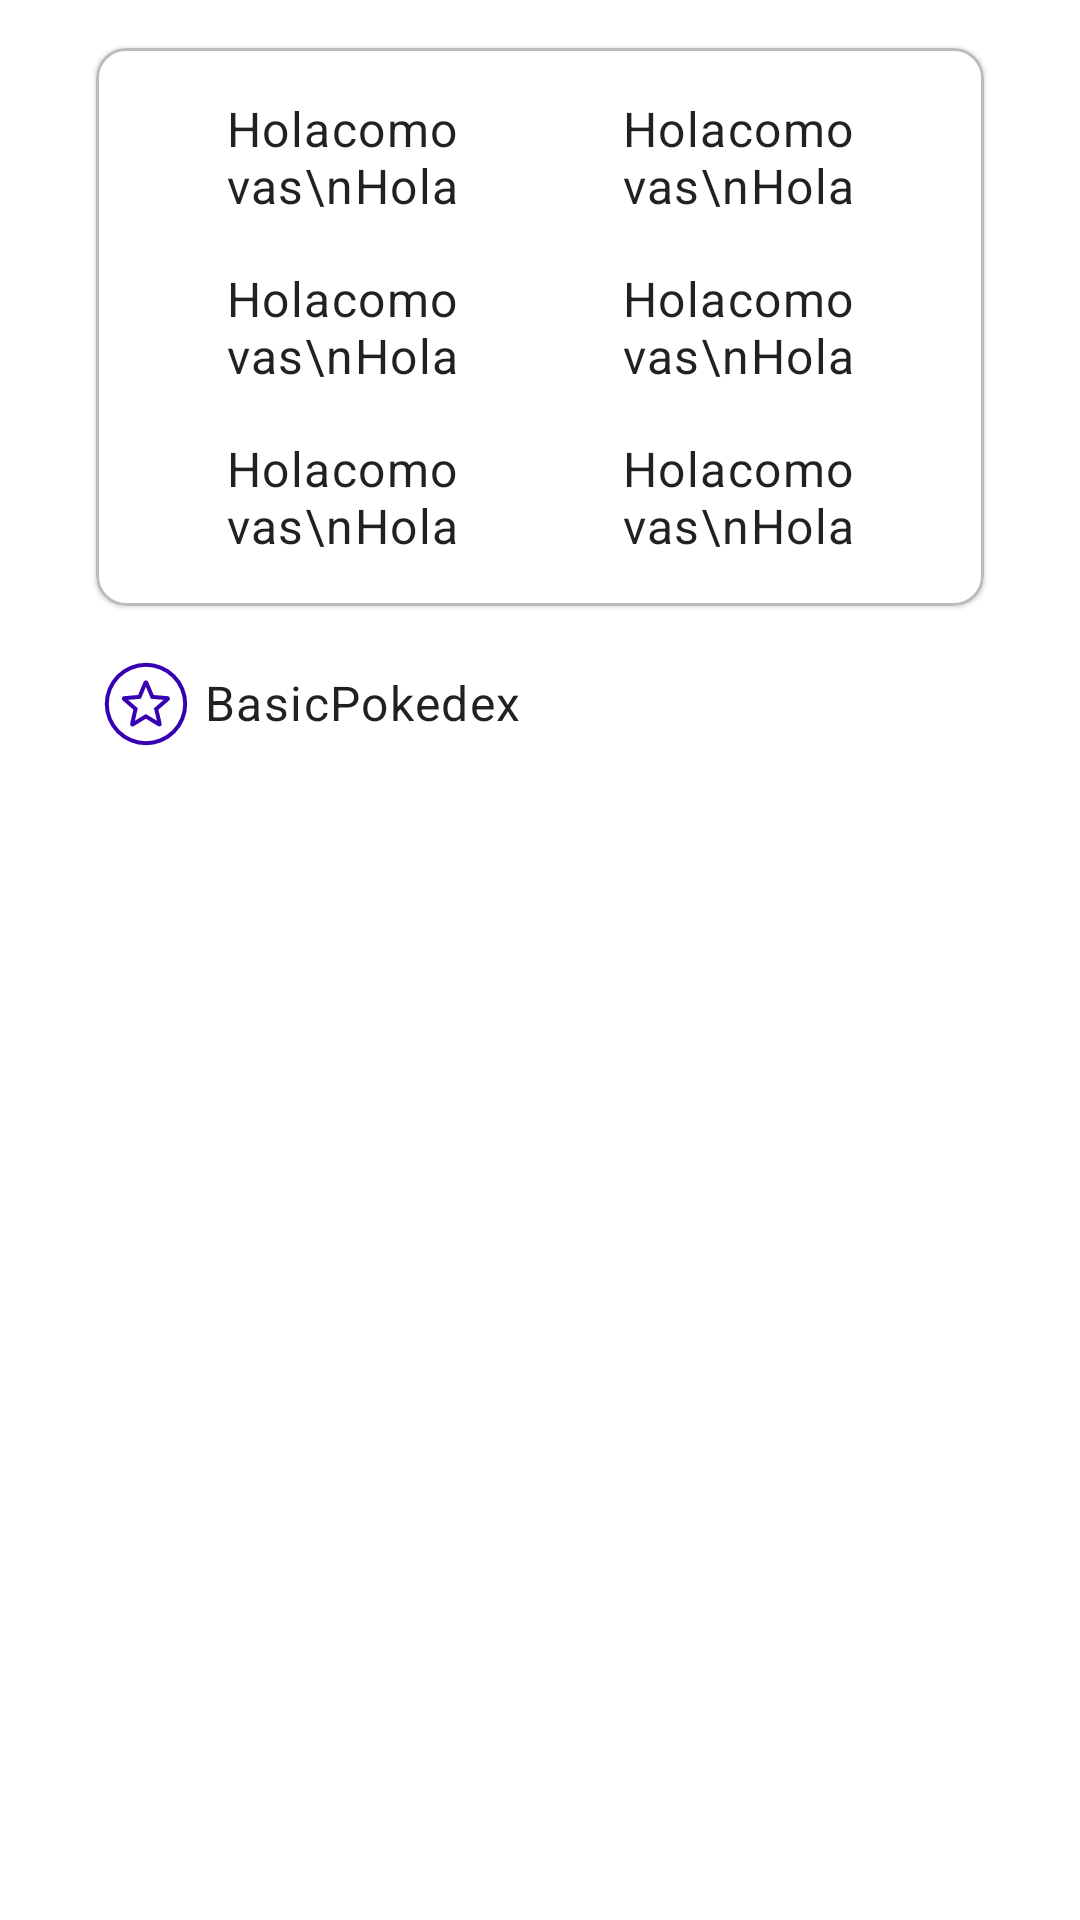

Point at icon controls on the screen. Image size 1080x1920, points as (x=x, y=y).
star circle: (x=146, y=704)
